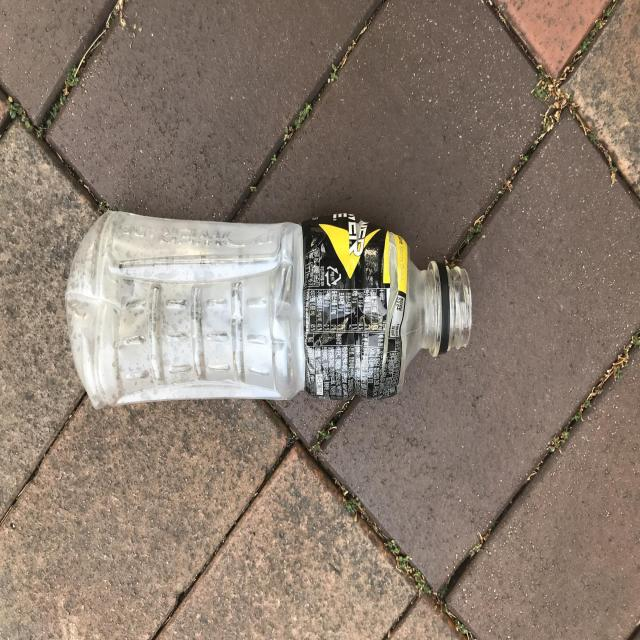plastic: (65, 211, 473, 408)
